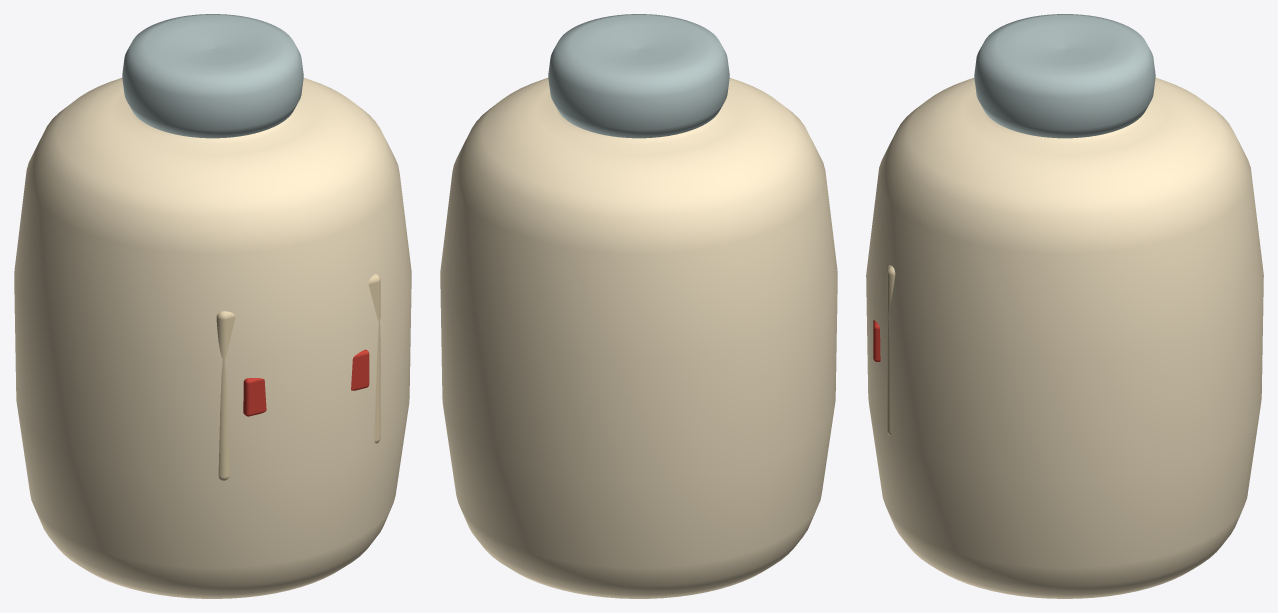
The model's file is bonus-foam.glb.
The picture shows the model from 3 angles, left to right: view 1: azimuth 30°, elevation 25°; view 2: azimuth 150°, elevation 25°; view 3: azimuth 270°, elevation 25°; orthographic projection.
Parts seen in each view (by area): view 1: ivory, steel, cream, red; view 2: ivory, steel; view 3: ivory, steel, cream.
Boxes of the visible parts, x1,y1,x2,y2 form: ivory: (14,78,411,598); steel: (122,14,303,138); cream: (216,273,380,480); red: (243,349,369,416); ivory: (440,78,837,598); steel: (548,14,729,138); ivory: (866,78,1263,598); steel: (974,14,1155,138); cream: (887,265,895,435).
Bounding box in the file's own units: 0.5293 × 0.7352 × 0.5293.
